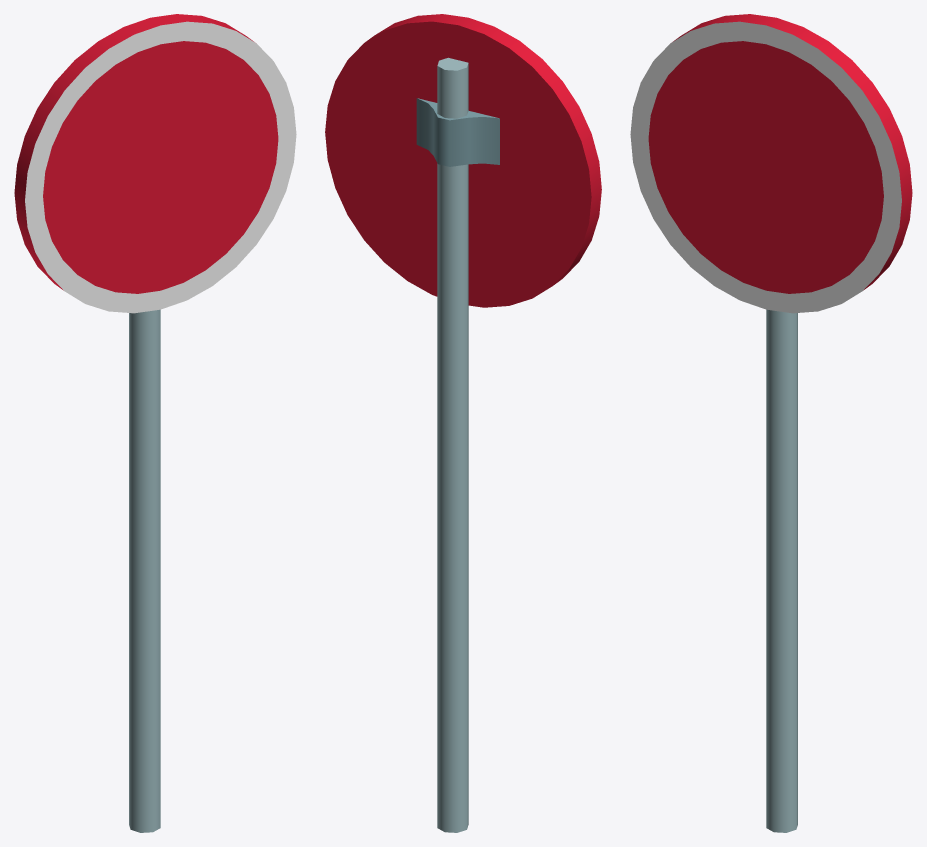
Rendered from RedWayPanel.fbx.
3 views of the same model, side by side, from view 1: azimuth 30°, elevation 25°; view 2: azimuth 150°, elevation 25°; view 3: azimuth 330°, elevation 25° (orthographic).
Visible parts, largest first — view 1: RedWayPanel; view 2: RedWayPanel; view 3: RedWayPanel.
Part boxes in pixels (x1,y1,x2,y2): RedWayPanel: [14, 14, 296, 832]; RedWayPanel: [325, 14, 601, 832]; RedWayPanel: [630, 14, 912, 832].
Size of the model in its own units: 2 by 0.3233 by 5.72.
